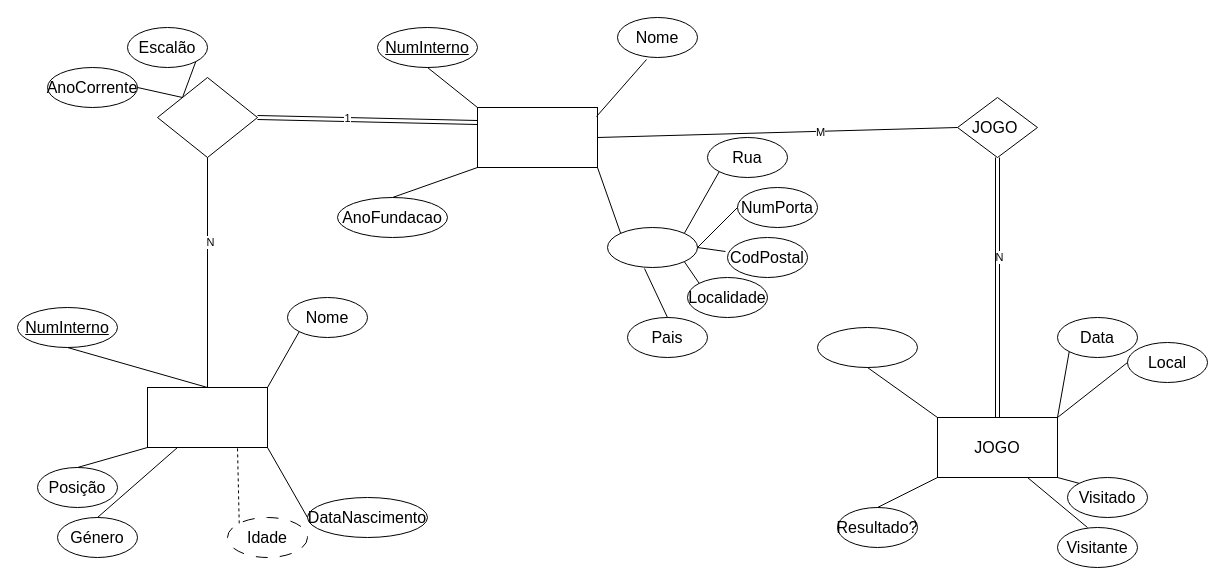
This 1225x585 diagram has some shape labels left out. The shapes that lost their labels are listed below. From the top down, each one's box as (x1, y1, x2, y2) in pixels, then its label:
(156, 76, 258, 158): FILIADO_A
(476, 106, 598, 168): EQUIPA
(606, 226, 698, 268): Morada
(816, 326, 918, 368): NumJogo
(146, 386, 268, 448): JOGADOR
